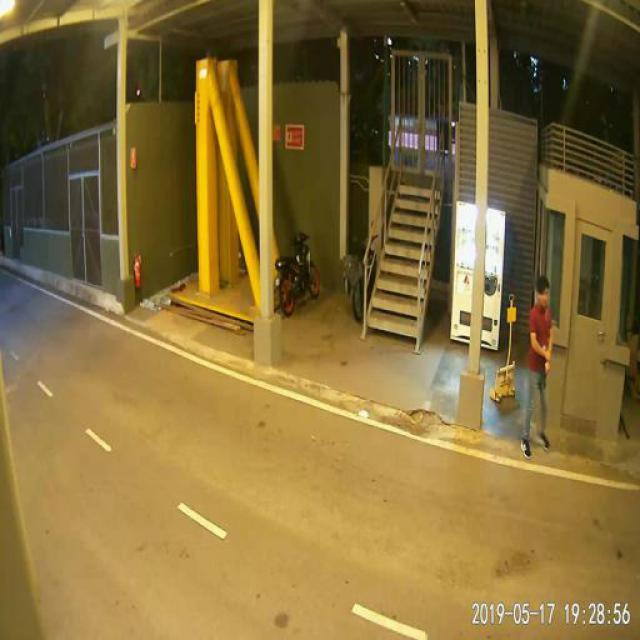weapon: (540, 364, 548, 389)
